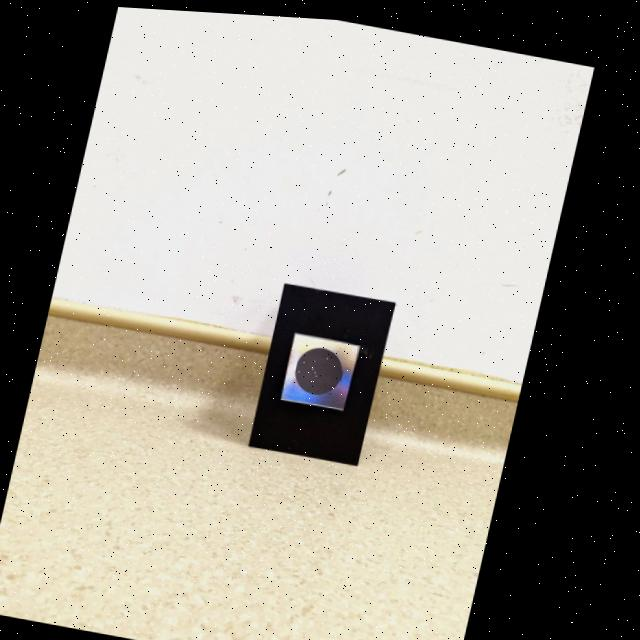CIRCLE: (301, 342, 350, 390)
